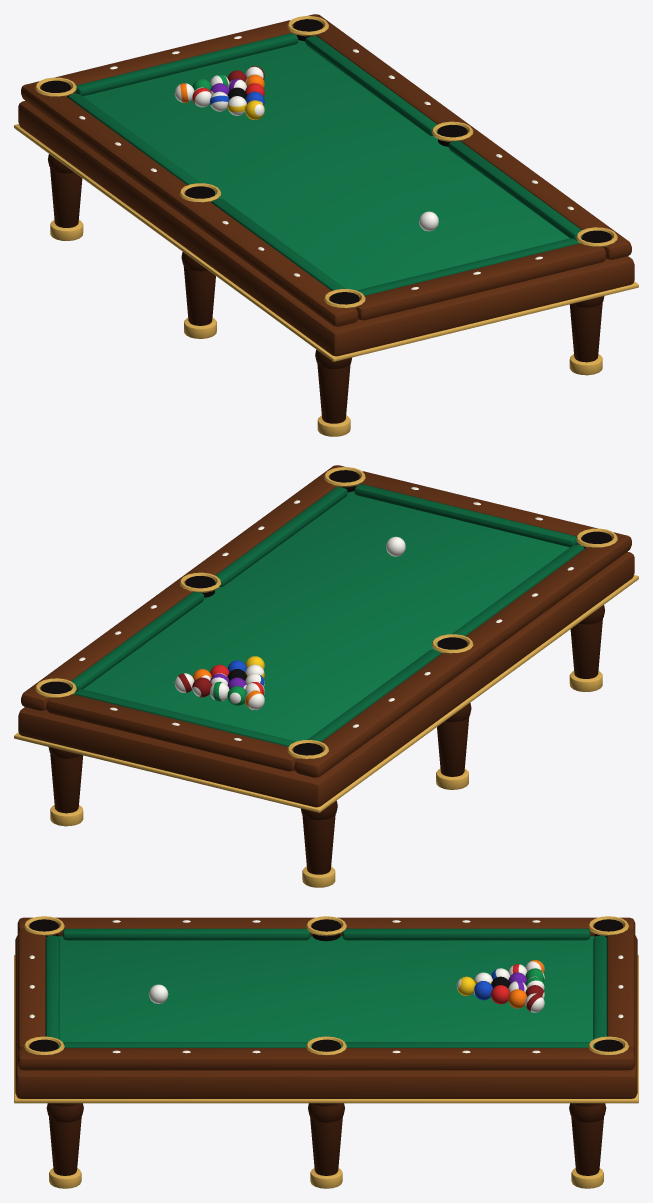
Rendered from PoolTable.fbx.
3 views of the same model, one above another, from view 1: azimuth 30°, elevation 25°; view 2: azimuth 150°, elevation 25°; view 3: azimuth 270°, elevation 25° (orthographic). The views are drawn at different scales.
Parts seen in each view (by area): view 1: PoolTable; view 2: PoolTable; view 3: PoolTable.
Boxes of the visible parts, box(x1,y1,x2,y2) form: PoolTable: box(14, 14, 638, 436); PoolTable: box(14, 465, 638, 887); PoolTable: box(14, 916, 638, 1188).
Bounding box in the file's own units: 740 × 343 × 1340.
